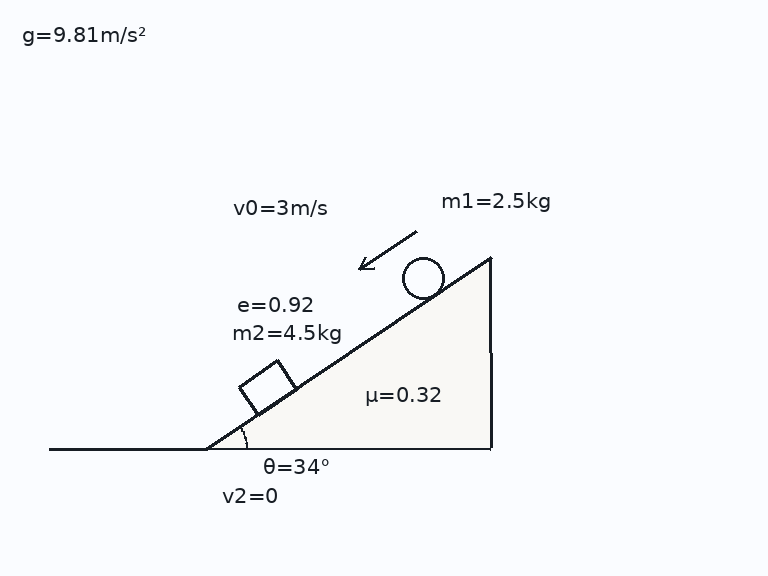ball: (400, 255, 446, 301)
block: (237, 359, 298, 417)
ramp: (205, 256, 493, 451)
